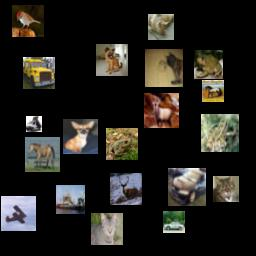airplane: (1, 196, 36, 231)
automobile: (168, 168, 206, 206), (163, 211, 185, 233)
bird: (12, 5, 44, 37)
cat: (145, 49, 183, 87), (91, 213, 123, 245), (148, 14, 174, 40), (213, 176, 239, 202)
deer: (144, 93, 179, 128), (110, 173, 142, 205)
dog: (63, 119, 98, 154), (96, 44, 128, 76)
frog: (201, 114, 239, 152), (106, 128, 138, 160), (194, 50, 223, 79)
ship: (56, 185, 85, 214)
truck: (23, 57, 55, 89), (26, 116, 42, 132)
